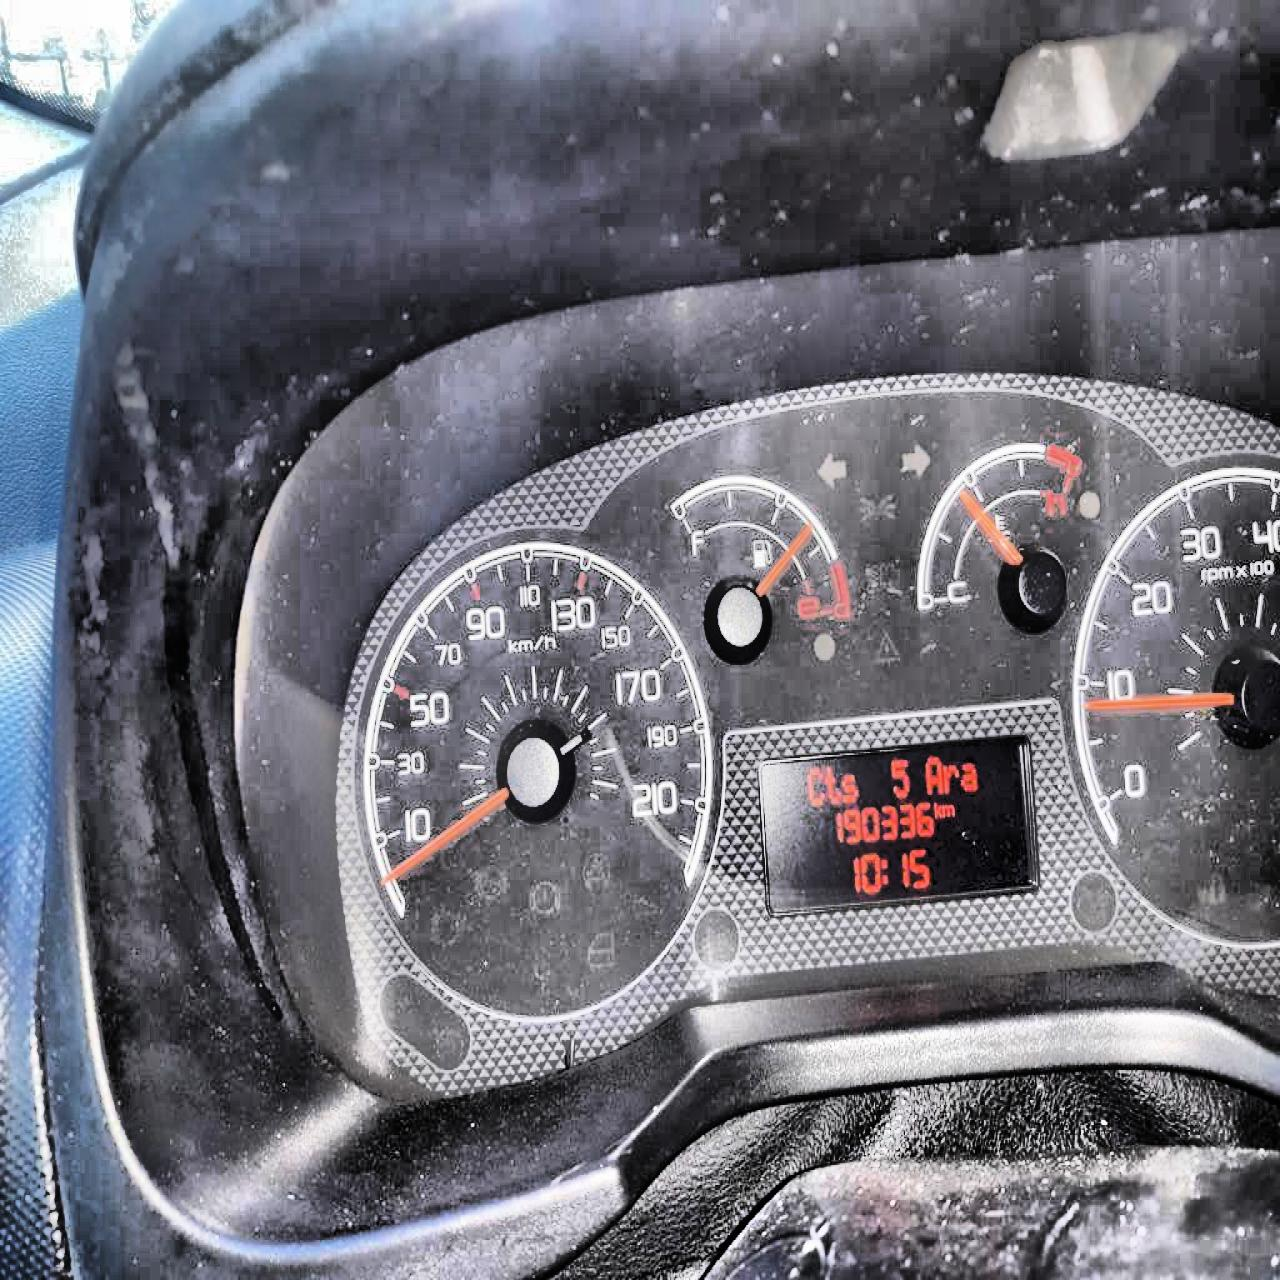0: (859, 849, 879, 893), (860, 805, 879, 842)
1: (847, 852, 858, 893), (831, 810, 843, 845), (899, 849, 907, 890)
3: (878, 802, 898, 840), (899, 799, 915, 838)
5: (907, 845, 931, 890), (887, 757, 911, 798)
6: (913, 798, 933, 835)
9: (844, 806, 858, 845)
X: (921, 751, 942, 797), (805, 763, 824, 806), (824, 763, 842, 806), (958, 758, 976, 791), (941, 758, 958, 794), (842, 771, 858, 803), (879, 855, 888, 885), (941, 799, 955, 818), (931, 797, 941, 818)
odometer: (753, 730, 1042, 921)
